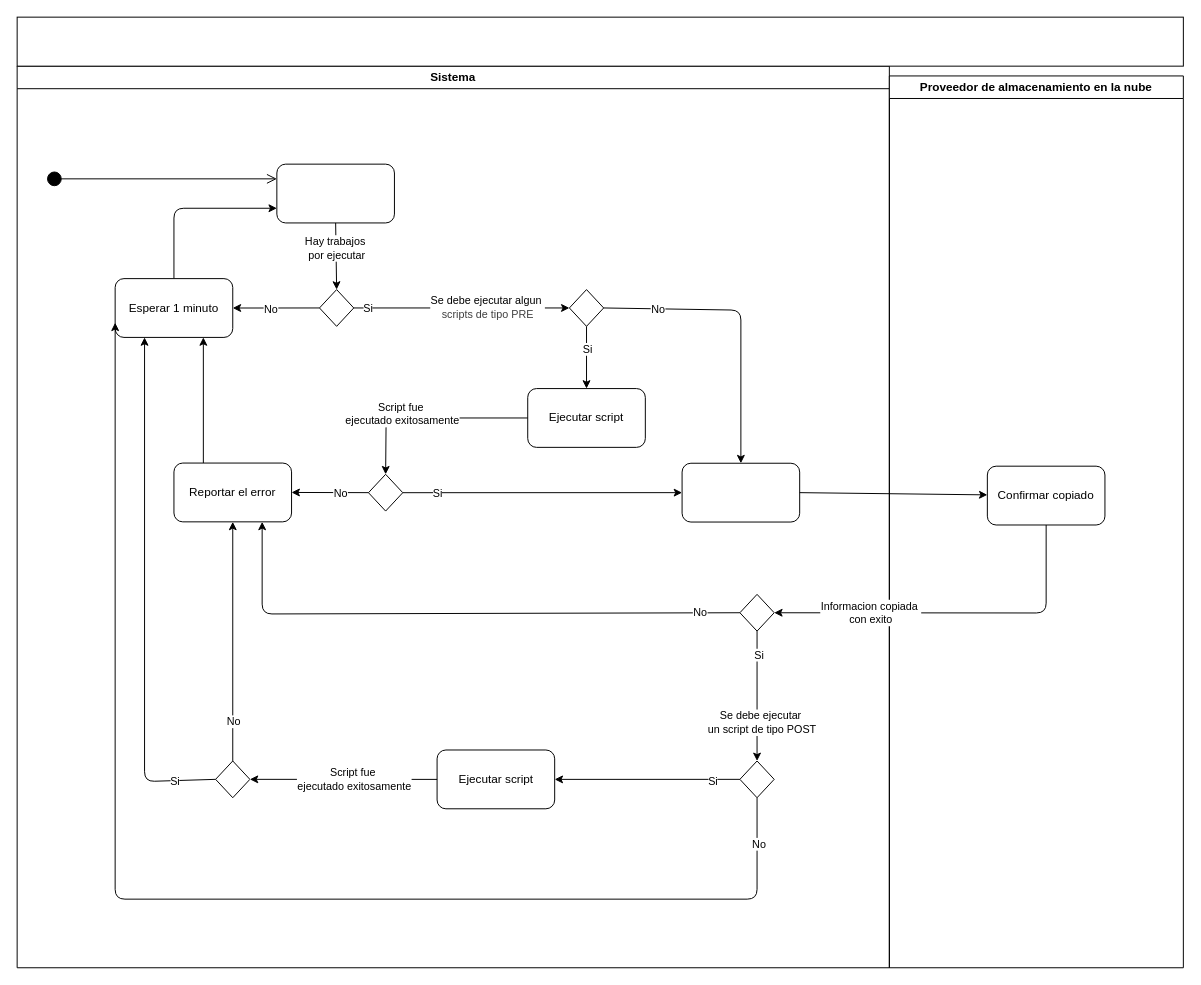
Image size: 1201x985. Some labels were removed from this diagram. The shapes that lost their labels are listed below. From the top down, each one's centre as x and y in pixels, then its label:
(x=599, y=41): Diagrama de actividad Ejecutar Trabajo Programado
(x=335, y=193): Obtener trabajos
(x=740, y=492): Copiar informacion
